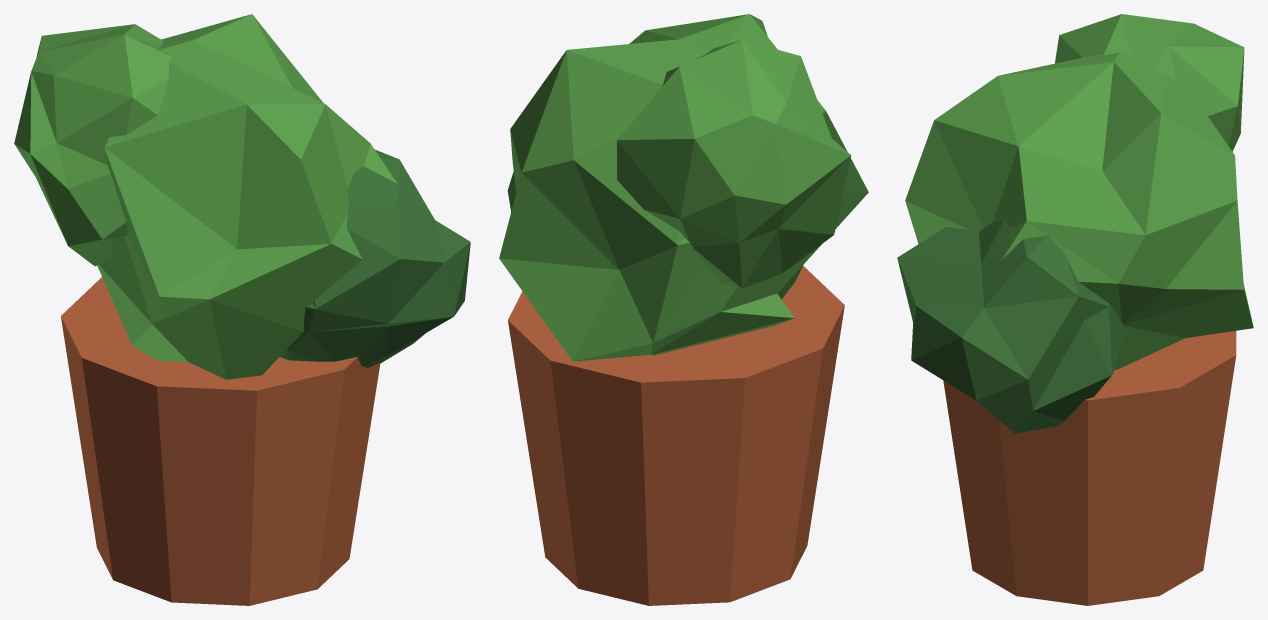
Rendered from plant.glb.
3 renders of one model, left to right at view 1: azimuth 30°, elevation 25°; view 2: azimuth 150°, elevation 25°; view 3: azimuth 270°, elevation 25°, orthographic. The views are drawn at different scales.
Visible parts, largest first — view 1: plant; view 2: plant; view 3: plant.
Boxes of the visible parts, <box> form: plant: <box>14,14,470,605</box>; plant: <box>499,14,868,605</box>; plant: <box>897,14,1253,605</box>.
Size of the model in its own units: 0.4767 by 0.6397 by 0.4112.
